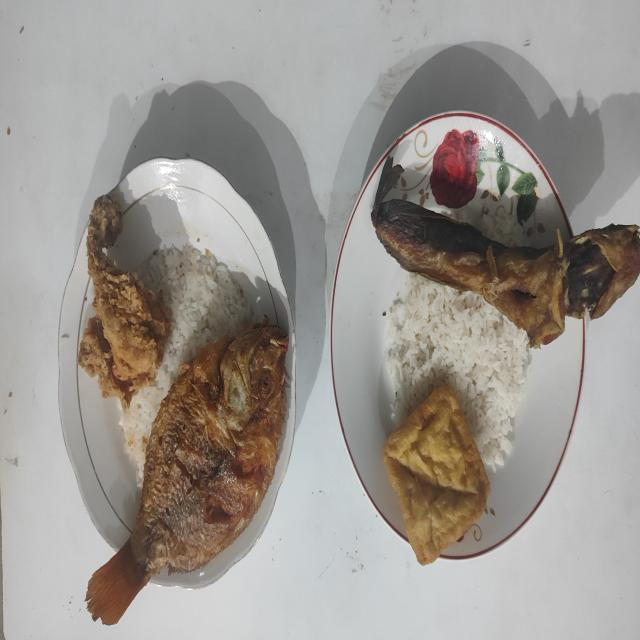ikan_mujair: (86, 318, 290, 624)
nasi_putih: (120, 243, 254, 480), (385, 274, 531, 471)
tahu_goreng: (382, 383, 490, 565)
